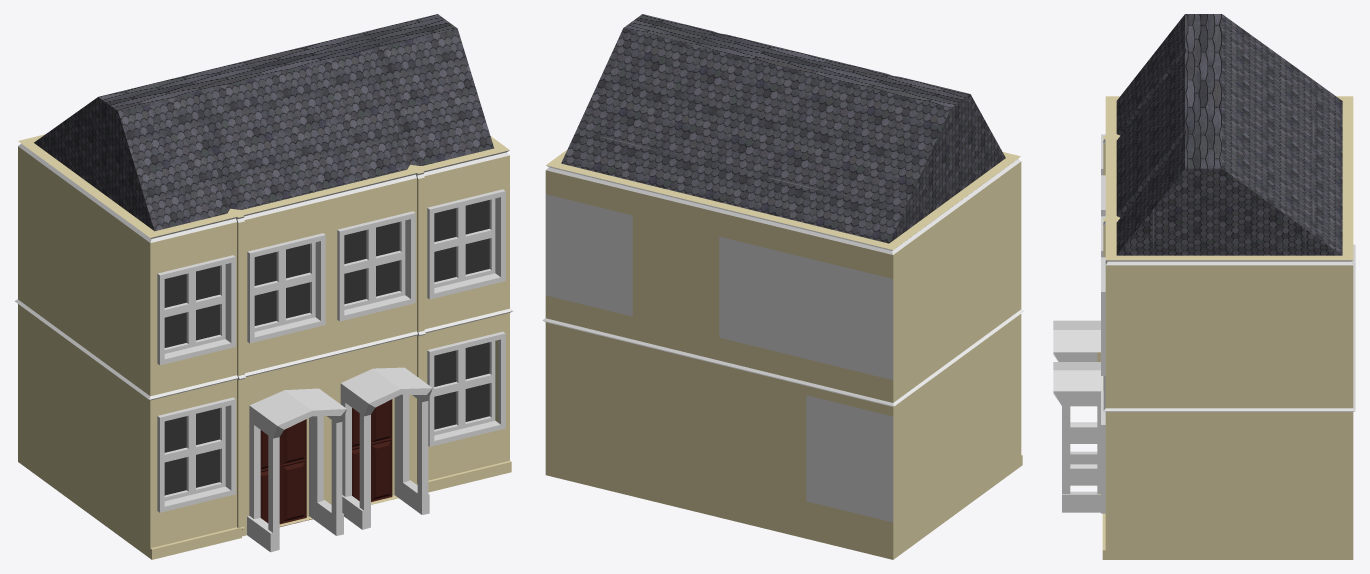
The model's file is House_B.fbx.
The picture shows the model from 3 angles, left to right: view 1: azimuth 30°, elevation 25°; view 2: azimuth 150°, elevation 25°; view 3: azimuth 270°, elevation 25°; orthographic projection. The views are drawn at different scales.
Parts seen in each view (by area): view 1: House_B_LOD0; view 2: House_B_LOD0; view 3: House_B_LOD0.
Part boxes in pixels (x1=…): House_B_LOD0: x1=14, y1=14, x2=513, y2=559; House_B_LOD0: x1=542, y1=14, x2=1024, y2=559; House_B_LOD0: x1=1053, y1=14, x2=1355, y2=559.
Size of what is drawn, in the model's own units: 2637 by 2862 by 2027.
